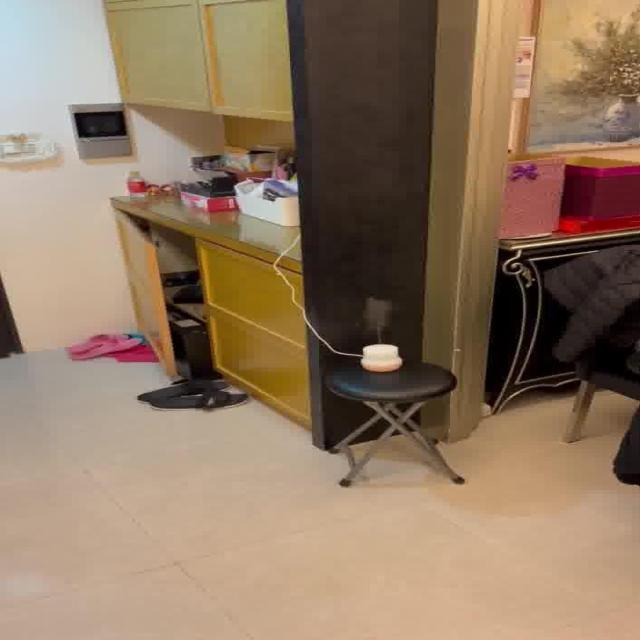fire: (354, 292, 406, 338)
